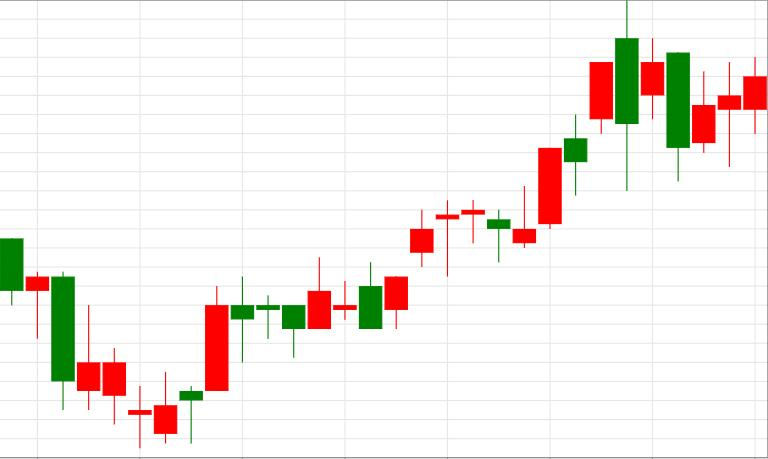bearish_engulfing_fall: (513, 0, 638, 248)
inverse_hammer_rise: (1, 238, 100, 411)
